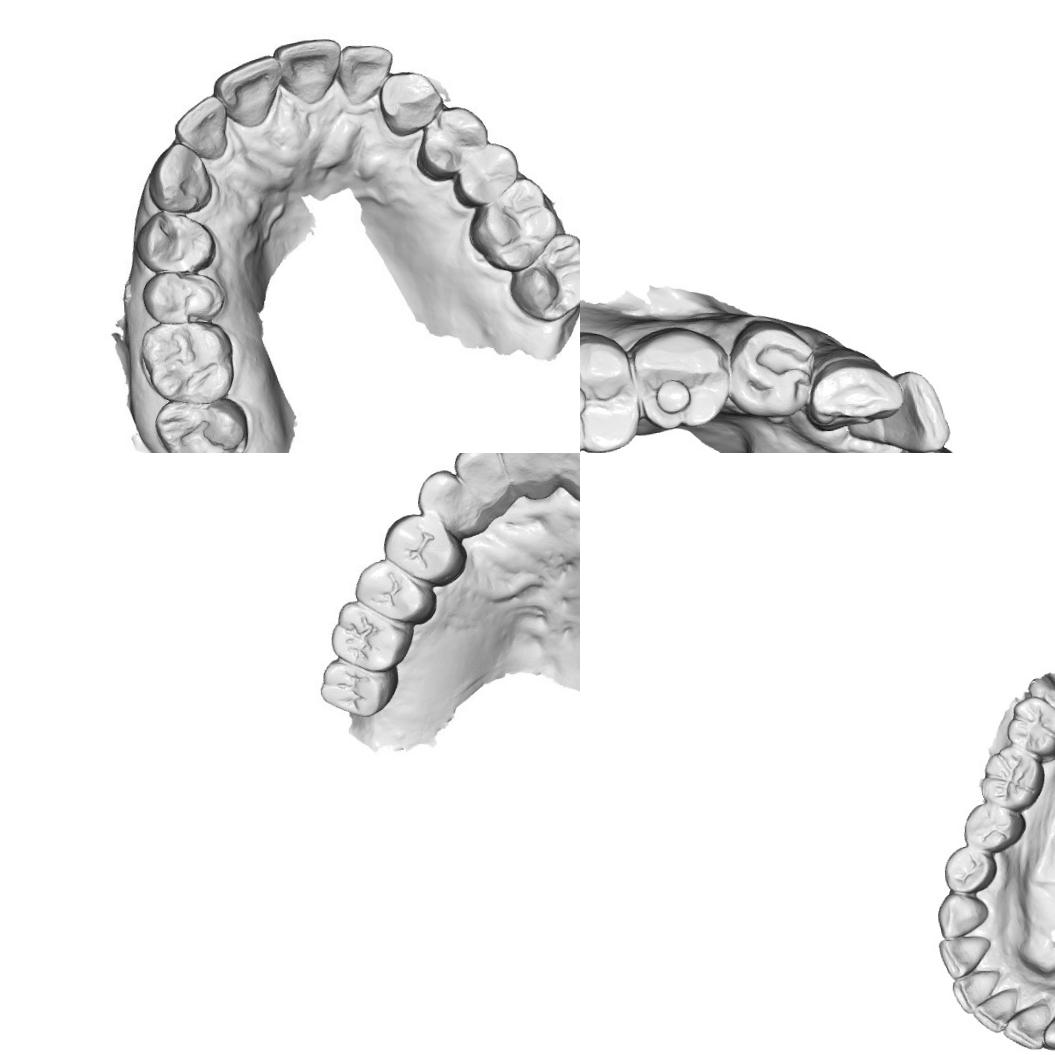canine: (803, 337, 907, 434), (144, 137, 218, 216), (416, 468, 482, 542), (936, 890, 990, 940), (1040, 1000, 1055, 1055)
incisor: (841, 366, 952, 453), (207, 47, 284, 132), (272, 34, 346, 108), (333, 38, 398, 108), (171, 92, 230, 162), (455, 453, 514, 519), (499, 453, 564, 503), (936, 934, 994, 980), (1000, 1002, 1052, 1052), (950, 967, 1002, 1016), (971, 986, 1020, 1034)
molar: (464, 171, 563, 276), (137, 316, 242, 408), (580, 326, 642, 453), (326, 596, 421, 673), (504, 229, 580, 323), (317, 654, 404, 728), (151, 393, 257, 453), (976, 742, 1046, 812), (1003, 693, 1055, 764)
premolar: (630, 321, 736, 433), (725, 314, 819, 421), (409, 102, 493, 184), (380, 510, 468, 586), (132, 202, 219, 276), (135, 264, 230, 328), (352, 558, 437, 628), (448, 135, 522, 211), (375, 67, 441, 138), (960, 800, 1028, 852), (940, 844, 999, 894)
